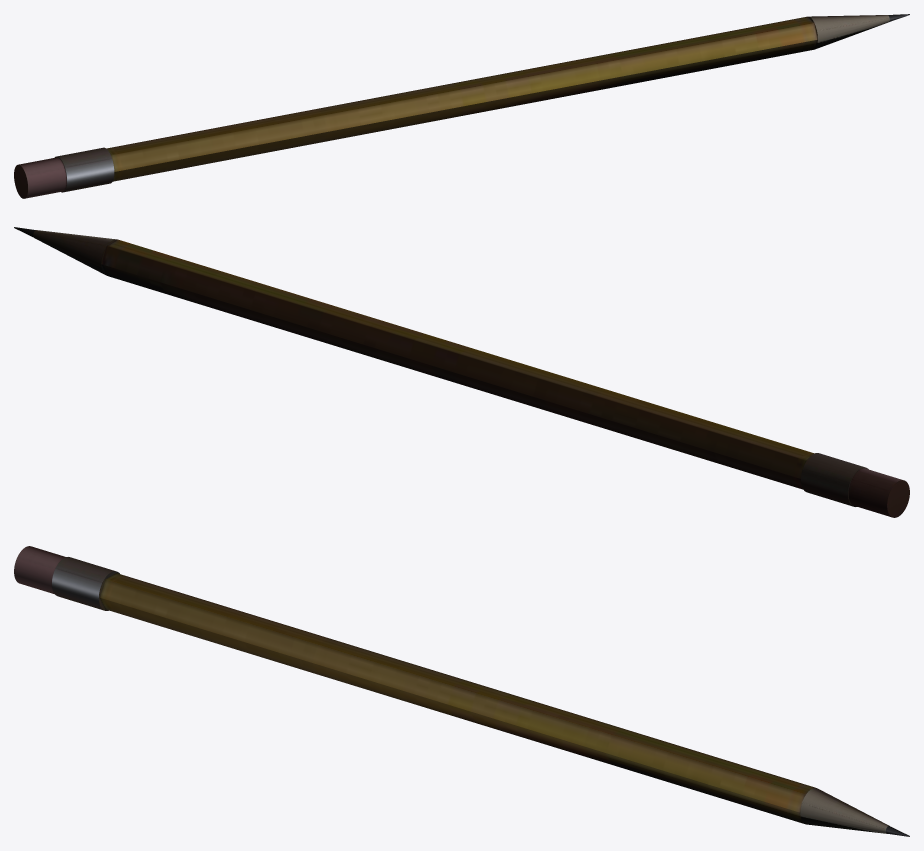
Rendered from pencil.glb.
The picture shows the model from 3 angles, top to bottom: view 1: azimuth 30°, elevation 25°; view 2: azimuth 150°, elevation 25°; view 3: azimuth 330°, elevation 25°; orthographic projection. The views are drawn at different scales.
Parts seen in each view (by area): view 1: pc_body, pc_ferrule, pc_eraser, pc_tip; view 2: pc_body, pc_eraser, pc_ferrule, pc_tip; view 3: pc_body, pc_tip, pc_ferrule, pc_eraser.
Boxes of the visible parts, x1,y1,x2,y2 form: pc_body: (106,16,817,181); pc_ferrule: (54,147,114,192); pc_eraser: (14,157,66,198); pc_tip: (808,15,889,49); pc_body: (101,239,814,489); pc_eraser: (848,468,909,517); pc_ferrule: (801,453,868,506); pc_tip: (33,230,117,275); pc_body: (99,573,815,823); pc_tip: (800,788,889,833); pc_ferrule: (52,557,119,610); pc_eraser: (14,546,65,593).
Bounding box in the file's own units: 0.2063 × 0.0078 × 0.0265.
Materials: 5 (5 with a texture image).
